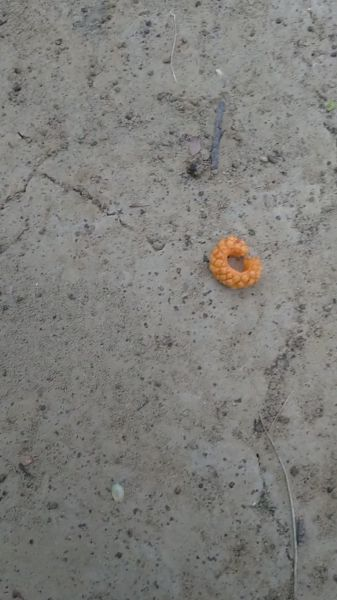eggs: (207, 230, 265, 290)
